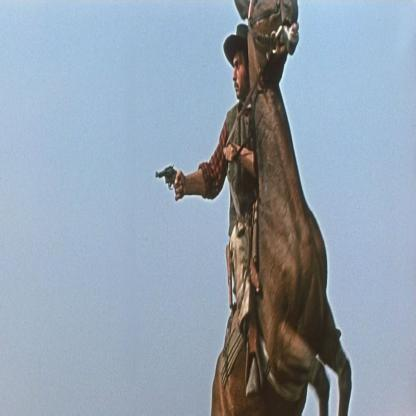gun: (148, 142, 184, 208)
